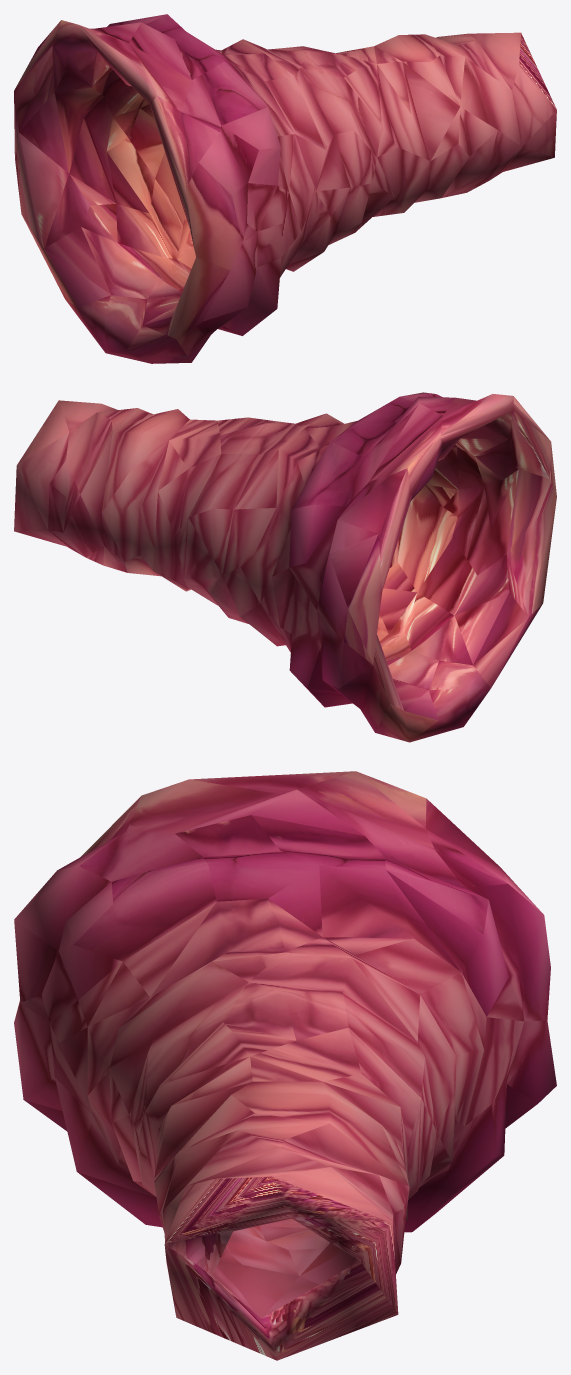
File: Throat3.2.fbx
3 renders of one model, top to bottom at view 1: azimuth 30°, elevation 25°; view 2: azimuth 150°, elevation 25°; view 3: azimuth 270°, elevation 25°, orthographic. The views are drawn at different scales.
Parts seen in each view (by area): view 1: Mesh_0; view 2: Mesh_0; view 3: Mesh_0.
Part boxes in pixels (box(x1,y1,x2,y2)): Mesh_0: box(14, 14, 556, 363); Mesh_0: box(14, 392, 556, 742); Mesh_0: box(14, 771, 556, 1360).
Size of the model in its own units: 1.71 by 1.26 by 1.37.
1 material, 1 textured.
